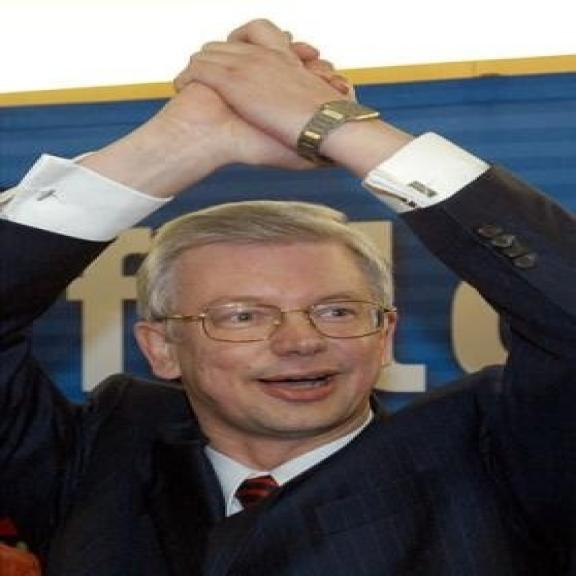face: (134, 206, 404, 443)
